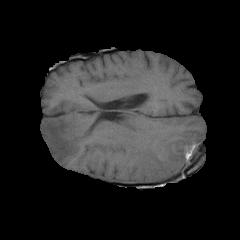glioma: (41, 117, 202, 180)
